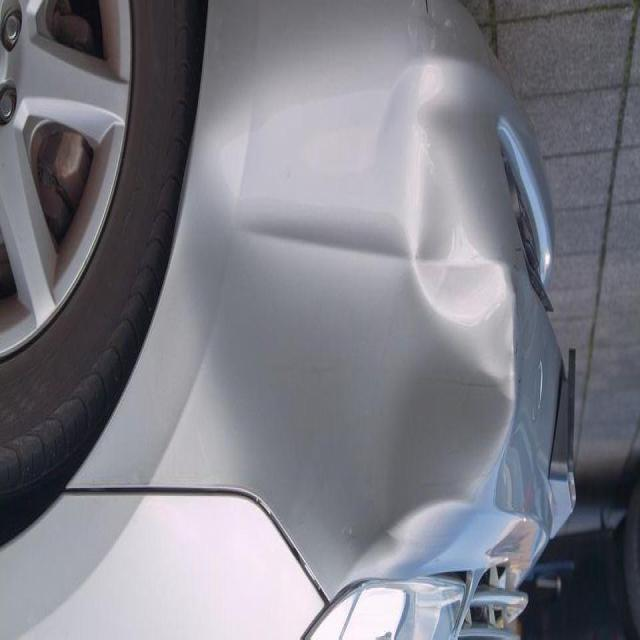dent: (188, 63, 516, 614)
